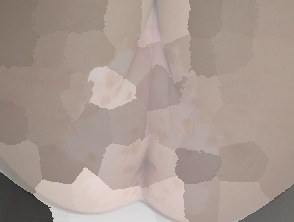vitiligo: (48, 0, 246, 222)
